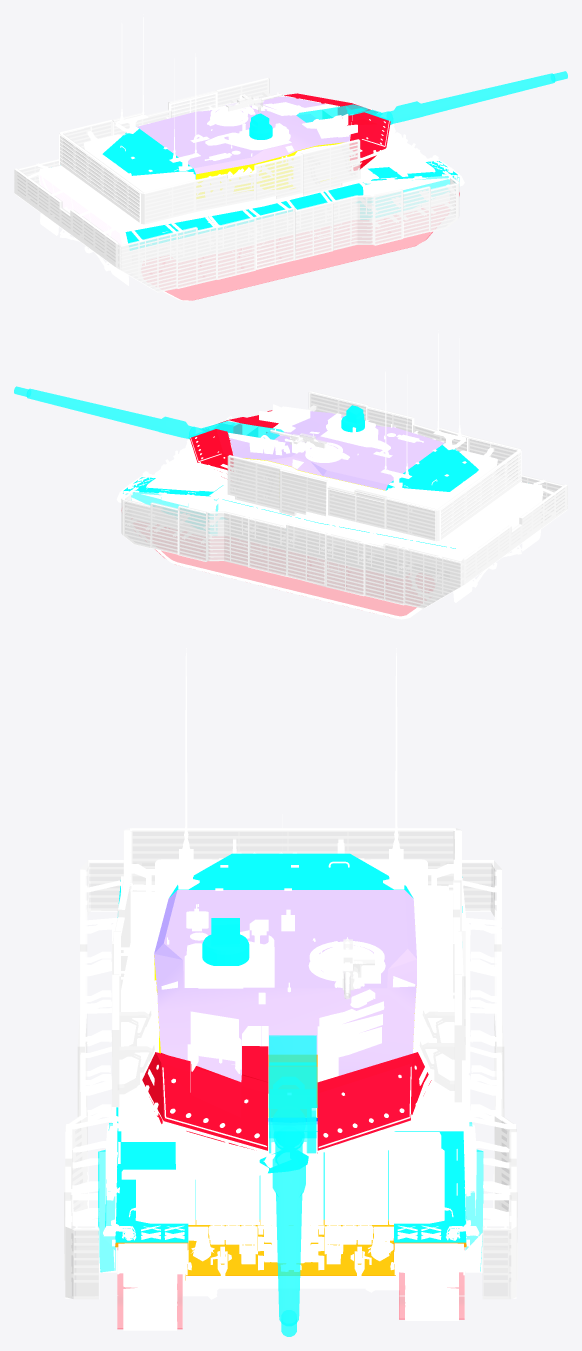
The model's file is LEO2A6.gltf.
3 views of the same model, one above another, from view 1: azimuth 30°, elevation 25°; view 2: azimuth 150°, elevation 25°; view 3: azimuth 270°, elevation 25° (orthographic). The views are drawn at different scales.
Visible parts, largest first — view 1: 2a6_cage_hull_col_simple_41, 23_3, 2a6_cage_turret_col_simple_46, 2a6_turret_col, 23, 23_4, 23_5, 2a6_track_armor_right_67, 2a6_gun_col_61, 23_2, 2a6_body_col_5, 2a6_body_col_1 (+4 smaller); view 2: 2a6_cage_hull_col_simple_41, 23_3, 23, 2a6_cage_turret_col_simple_46, 23_4, 23_5, 2a6_turret_col, 2a6_gun_col_61, 23_1, 2a6_body_col_1, 2a6_track_armor_left_64, 2a6_body_col_3 (+4 smaller); view 3: 2a6_turret_col, 23, 23_5, 23_3, 23_4, 2a6_cage_hull_col_simple_41, 2a6_cage_turret_col_simple_46, 2a6_gun_col_61, 2a6_body_col, 2a6_body_col_1, 2a6_body_col_2, 23_2 (+5 smaller).
Part boxes in pixels (x1,y1,x2,y2): 2a6_cage_hull_col_simple_41: (14,101,459,292); 23_3: (14,100,458,292); 2a6_cage_turret_col_simple_46: (59,77,360,224); 2a6_turret_col: (102,93,390,198); 23: (38,107,464,295); 23_4: (59,78,359,224); 23_5: (84,14,389,209); 2a6_track_armor_right_67: (165,192,459,300); 2a6_gun_col_61: (296,71,567,124); 23_2: (129,202,449,301); 2a6_body_col_5: (125,174,457,250); 2a6_body_col_1: (45,163,371,231); 2a6_cage_hull_col_simple_41: (121,417,567,608); 23_3: (122,416,567,608); 23: (116,424,543,613); 2a6_cage_turret_col_simple_46: (227,391,521,540); 23_4: (228,391,521,541); 23_5: (190,330,497,526); 2a6_turret_col: (189,410,478,491); 2a6_gun_col_61: (14,386,283,439); 23_1: (131,518,451,619); 2a6_body_col_1: (209,482,538,548); 2a6_track_armor_left_64: (155,549,416,615); 2a6_body_col_3: (452,488,541,570); 2a6_turret_col: (142,853,431,1153); 23: (99,814,482,1299); 23_5: (136,648,443,1153); 23_3: (64,860,517,1298); 23_4: (112,828,465,1107); 2a6_cage_hull_col_simple_41: (64,860,517,1299); 2a6_cage_turret_col_simple_46: (112,828,465,1106); 2a6_gun_col_61: (268,1035,317,1336); 2a6_body_col: (115,1131,466,1242); 2a6_body_col_1: (118,876,463,1131); 2a6_body_col_2: (115,1219,466,1280); 23_2: (117,1247,182,1330).
Bounding box in the file's own units: 11.13 × 4.91 × 4.37.
